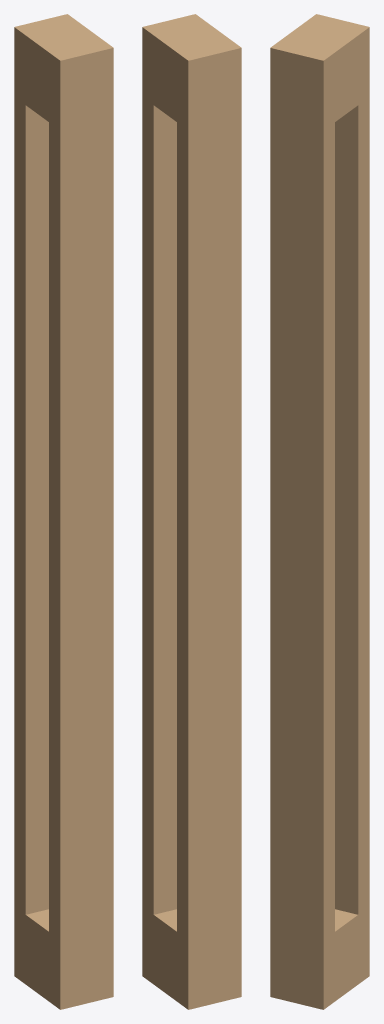
Rendered from starter-armature-winding-10.glb.
3 renders of one model, left to right at view 1: azimuth 30°, elevation 25°; view 2: azimuth 210°, elevation 25°; view 3: azimuth 330°, elevation 25°, orthographic.
Visible parts, largest first — view 1: world; view 2: world; view 3: world.
Boxes of the visible parts, x1,y1,x2,y2 form: world: [14, 14, 113, 1009]; world: [142, 14, 241, 1009]; world: [270, 14, 369, 1009].
Size of the model in its own units: 0.004 by 0.068 by 0.006.
